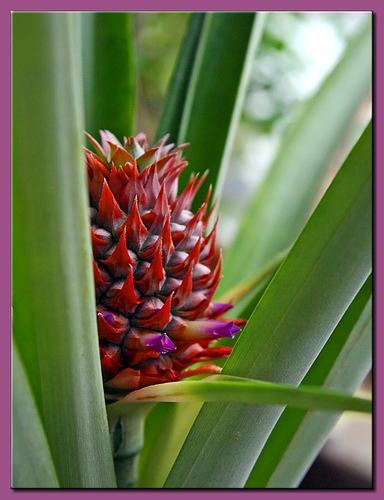pineapple: (81, 123, 248, 392)
